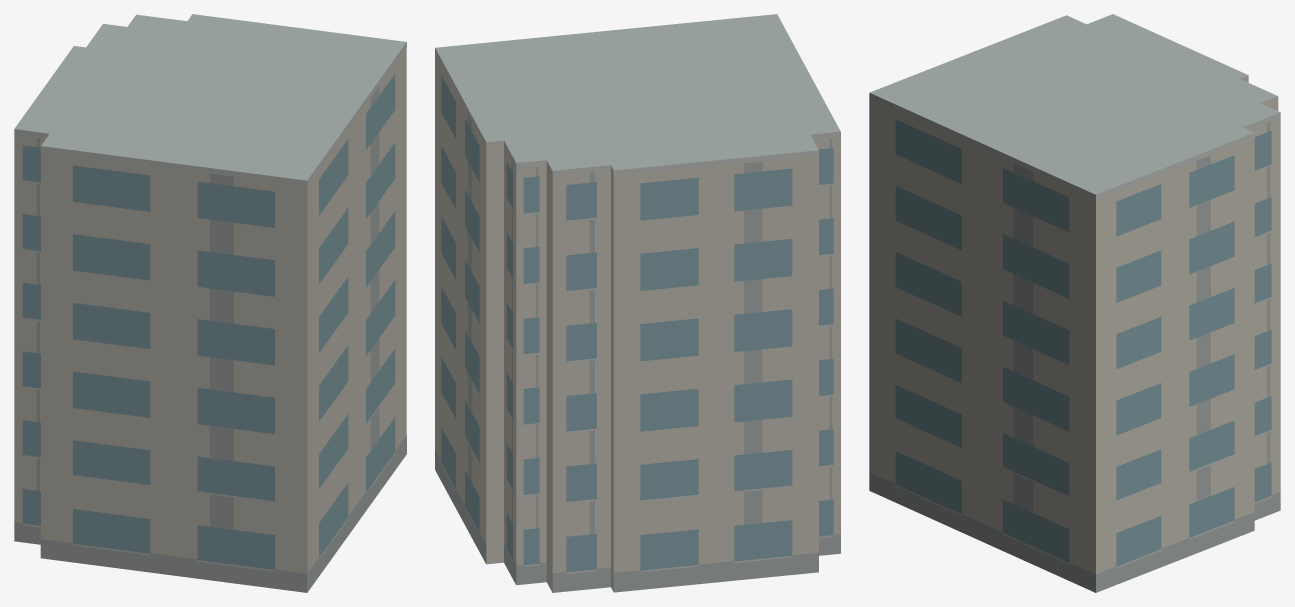
The model's file is survey-upis-32591501.glb.
3 views of the same model, side by side, from view 1: azimuth 30°, elevation 25°; view 2: azimuth 150°, elevation 25°; view 3: azimuth 270°, elevation 25° (orthographic). The views are drawn at different scales.
Visible parts, largest first — view 1: survey-upis-32591501.tmp; view 2: survey-upis-32591501.tmp; view 3: survey-upis-32591501.tmp.
Part boxes in pixels (x1,y1,x2,y2): survey-upis-32591501.tmp: [14, 14, 406, 592]; survey-upis-32591501.tmp: [435, 14, 840, 592]; survey-upis-32591501.tmp: [869, 14, 1280, 592].
Size of the model in its own units: 17.44 by 17.9 by 16.76.
